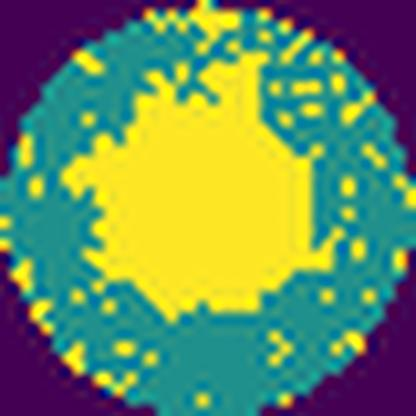Center: (60, 51, 337, 323)
